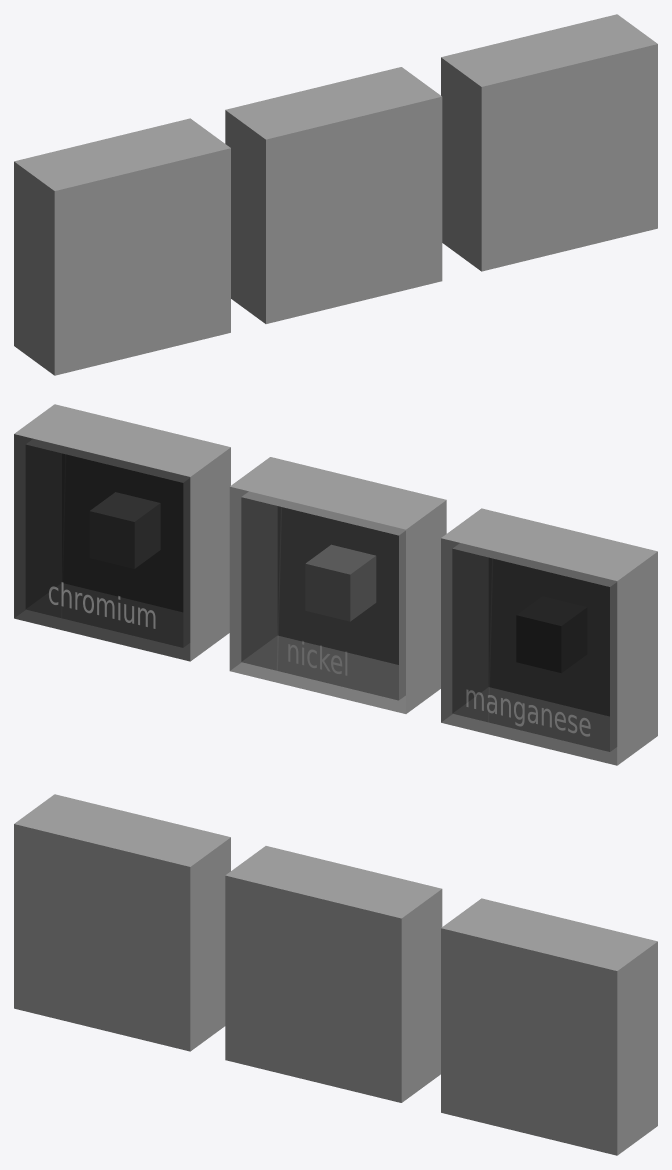
The model's file is chromium, nickel and manganese..fbx.
3 views of the same model, one above another, from view 1: azimuth 30°, elevation 25°; view 2: azimuth 150°, elevation 25°; view 3: azimuth 330°, elevation 25° (orthographic).
Parts seen in each view (by area): view 1: pCube5 (×2), pCube3; view 2: pCube5 (×2), pCube3, pCube4 (×2), pCube2; view 3: pCube5 (×2), pCube3.
Part boxes in pixels (x1,y1,x2,y2): pCube5 (×2): (225, 14, 657, 323); pCube3: (14, 118, 230, 375); pCube5 (×2): (14, 404, 446, 713); pCube3: (441, 508, 657, 765); pCube4 (×2): (90, 492, 376, 621); pCube2: (516, 596, 586, 672); pCube5 (×2): (225, 846, 657, 1155); pCube3: (14, 794, 230, 1051).
Bounding box in the file's own units: 217 × 63.48 × 25.36.
Materials: 6 (3 with a texture image).
